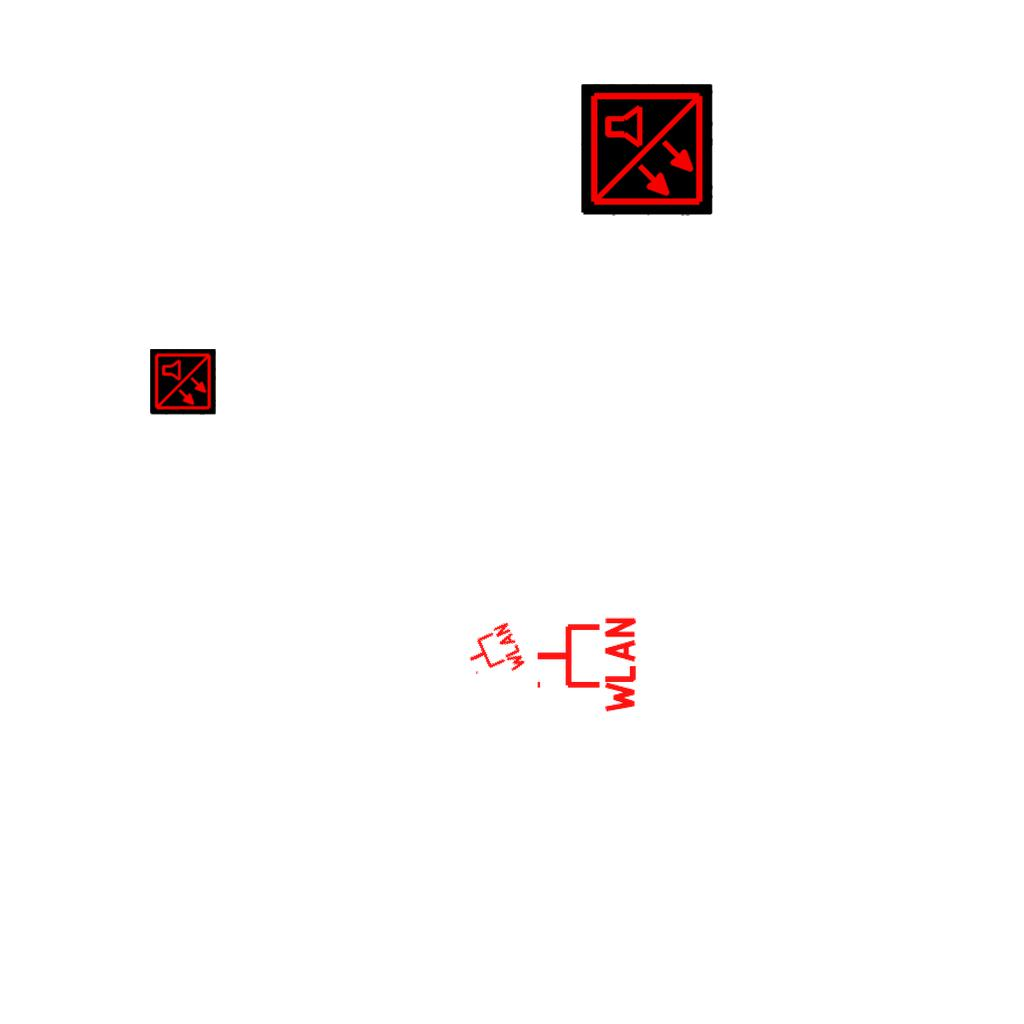OKW_Multisensormelder_(Kombination_optischer_Rauch-Kahlenmonoxid_Waerme-Melder): (581, 84, 713, 216), (150, 349, 216, 415)
WLAN: (533, 613, 638, 717), (459, 619, 529, 689)
